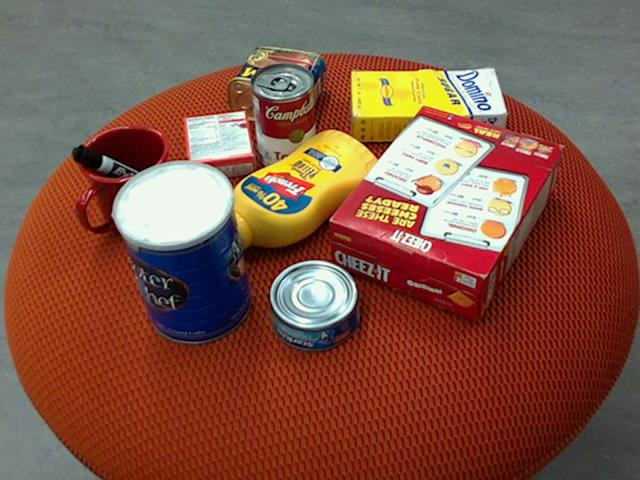cracker_box: (329, 104, 565, 319)
gelatin_box: (183, 109, 254, 182)
large_marker: (70, 144, 173, 202)
master_chef_can: (108, 160, 251, 345)
mug: (77, 124, 177, 234)
mustard_bottle: (208, 129, 383, 251)
potted_meat_can: (227, 47, 327, 127)
sugar_box: (349, 67, 508, 142)
tomato_soup_can: (250, 61, 316, 172)
tuna_fish_can: (269, 260, 361, 352)
